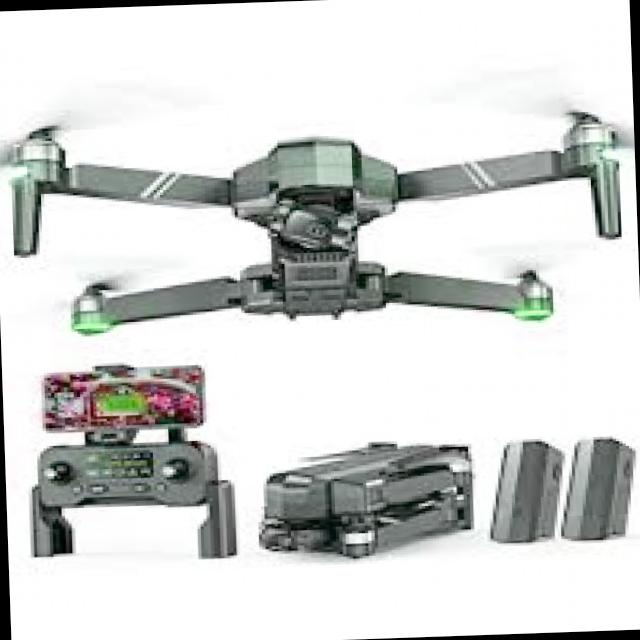drone: (0, 74, 640, 348)
